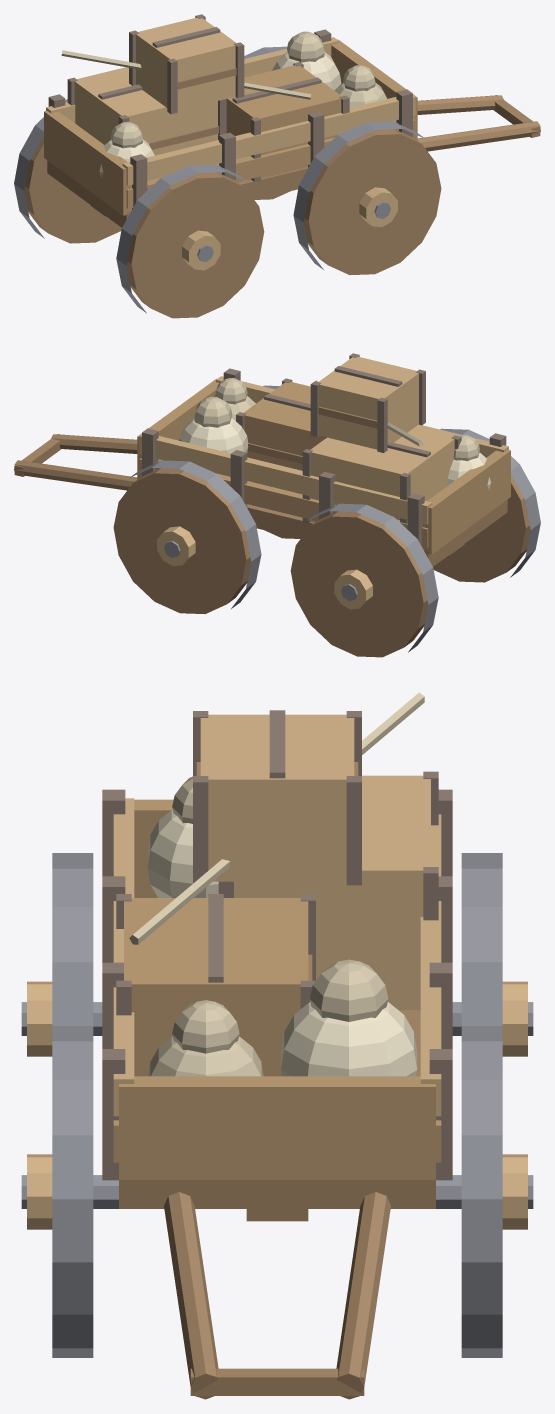
The model's file is ws_camp_cart.glb.
3 renders of one model, top to bottom at view 1: azimuth 30°, elevation 25°; view 2: azimuth 150°, elevation 25°; view 3: azimuth 270°, elevation 25°, orthographic. The views are drawn at different scales.
Visible parts, largest first — view 1: ws_camp_cart; view 2: ws_camp_cart; view 3: ws_camp_cart.
Part boxes in pixels (x1=…): ws_camp_cart: x1=14, y1=14, x2=540, y2=318; ws_camp_cart: x1=14, y1=353, x2=540, y2=657; ws_camp_cart: x1=21, y1=692, x2=533, y2=1399.
Size of the model in its own units: 2.03 by 1.02 by 1.
